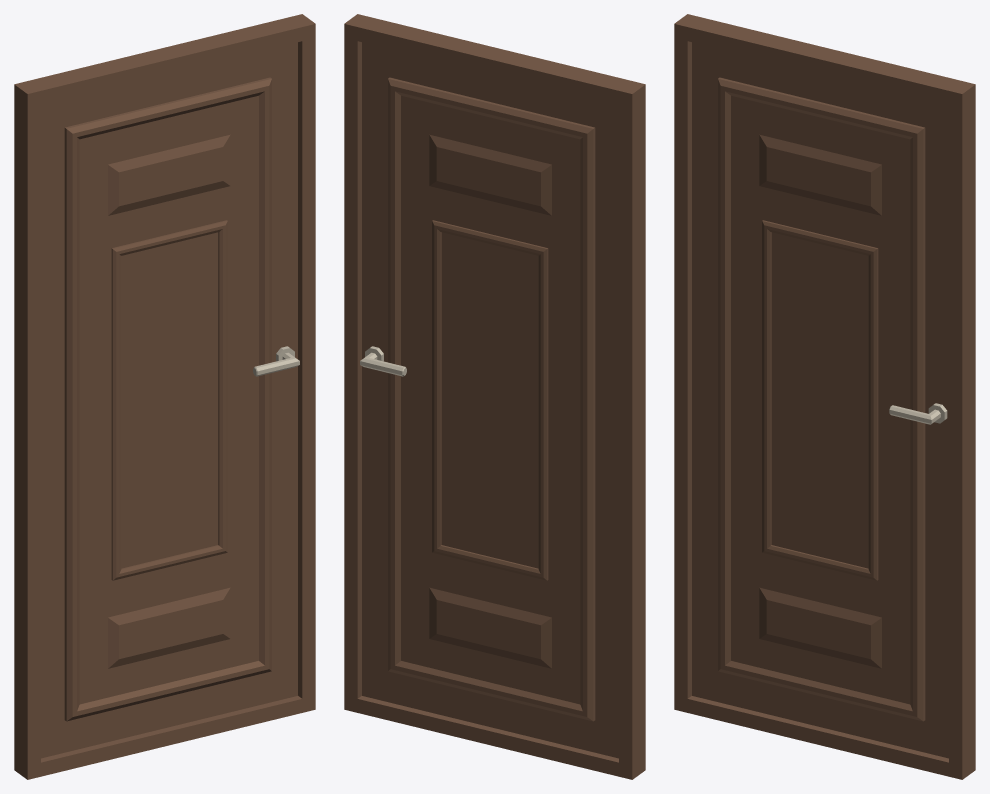
File: Mesh_Door_C06.fbx
The picture shows the model from 3 angles, left to right: view 1: azimuth 30°, elevation 25°; view 2: azimuth 150°, elevation 25°; view 3: azimuth 330°, elevation 25°; orthographic projection.
Visible parts, largest first — view 1: Mesh_Door_C06; view 2: Mesh_Door_C06; view 3: Mesh_Door_C06.
Part boxes in pixels (bbox=[...]): Mesh_Door_C06: bbox=[14, 14, 315, 779]; Mesh_Door_C06: bbox=[344, 14, 645, 779]; Mesh_Door_C06: bbox=[674, 14, 975, 779].
Bounding box in the file's own units: 0.9 × 2.05 × 0.1524.
